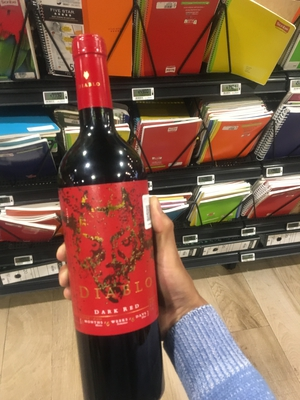diablo dark red: (45, 49, 177, 400)
